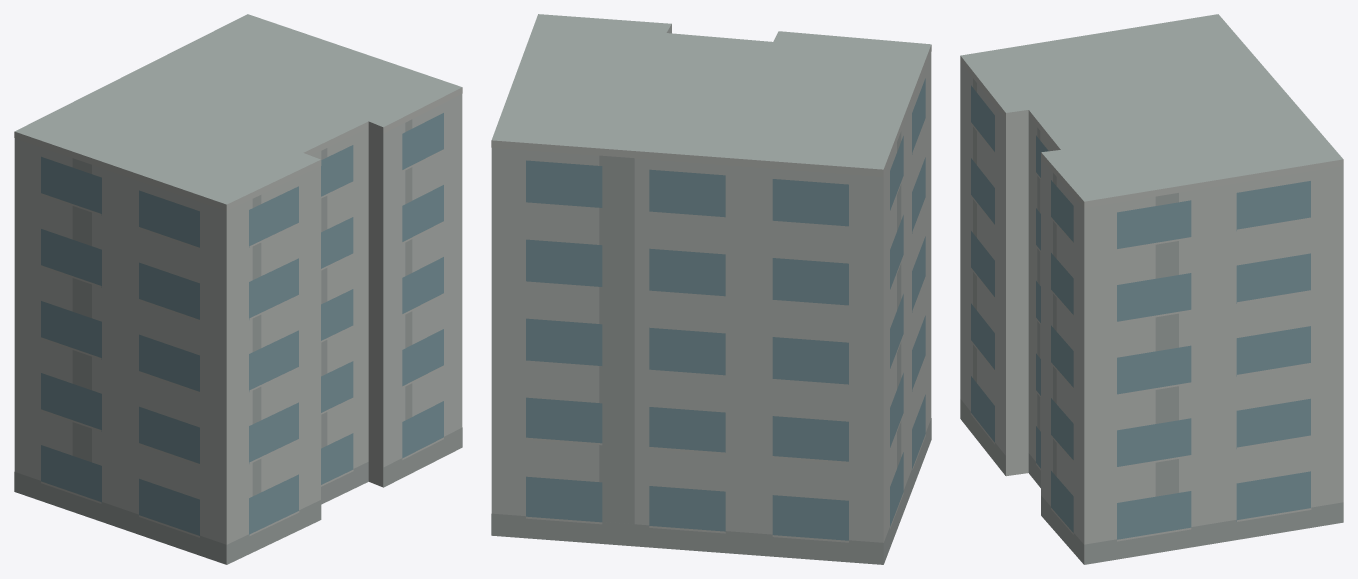
Rendered from survey-upis-32933394.glb.
The picture shows the model from 3 angles, left to right: view 1: azimuth 30°, elevation 25°; view 2: azimuth 150°, elevation 25°; view 3: azimuth 270°, elevation 25°; orthographic projection. The views are drawn at different scales.
Parts seen in each view (by area): view 1: survey-upis-32933394.tmp; view 2: survey-upis-32933394.tmp; view 3: survey-upis-32933394.tmp.
Boxes of the visible parts, x1,y1,x2,y2 form: survey-upis-32933394.tmp: (14, 14, 462, 564); survey-upis-32933394.tmp: (491, 14, 931, 564); survey-upis-32933394.tmp: (960, 14, 1343, 564).
Size of the model in its own units: 14.91 by 13.45 by 12.87.
